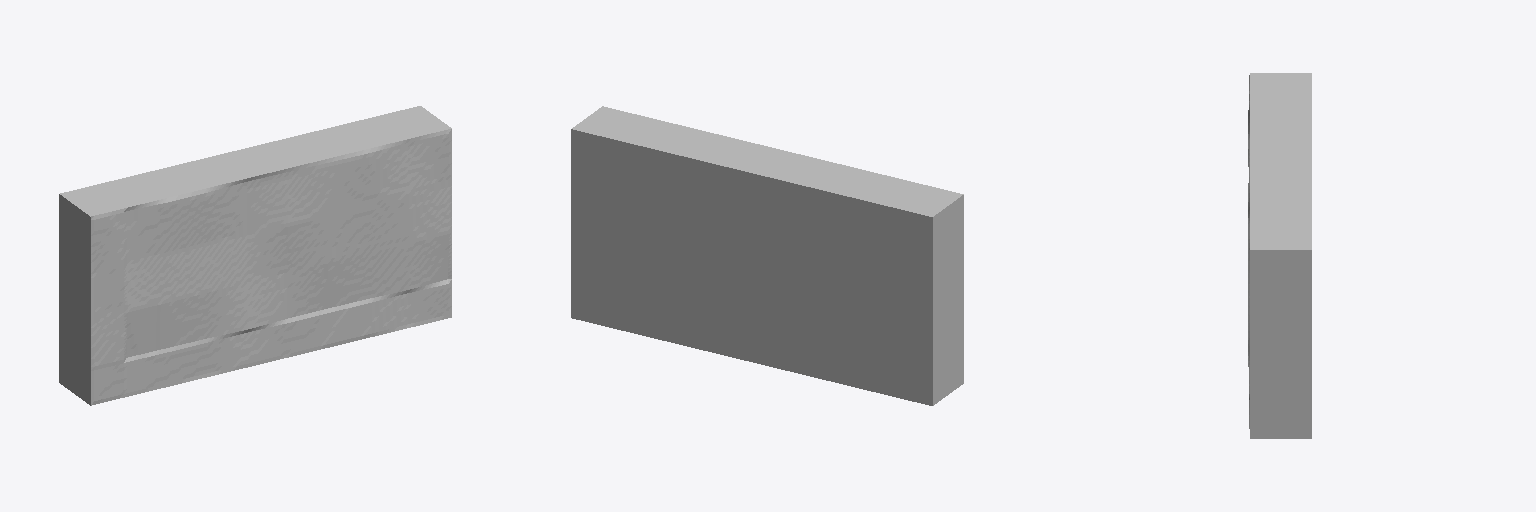
Rendered from rectangular_prism_bumps_3_4.obj.
3 renders of one model, left to right at view 1: azimuth 30°, elevation 25°; view 2: azimuth 150°, elevation 25°; view 3: azimuth 270°, elevation 25°, orthographic.
Bounding box in the file's own units: 10 × 5 × 1.54.